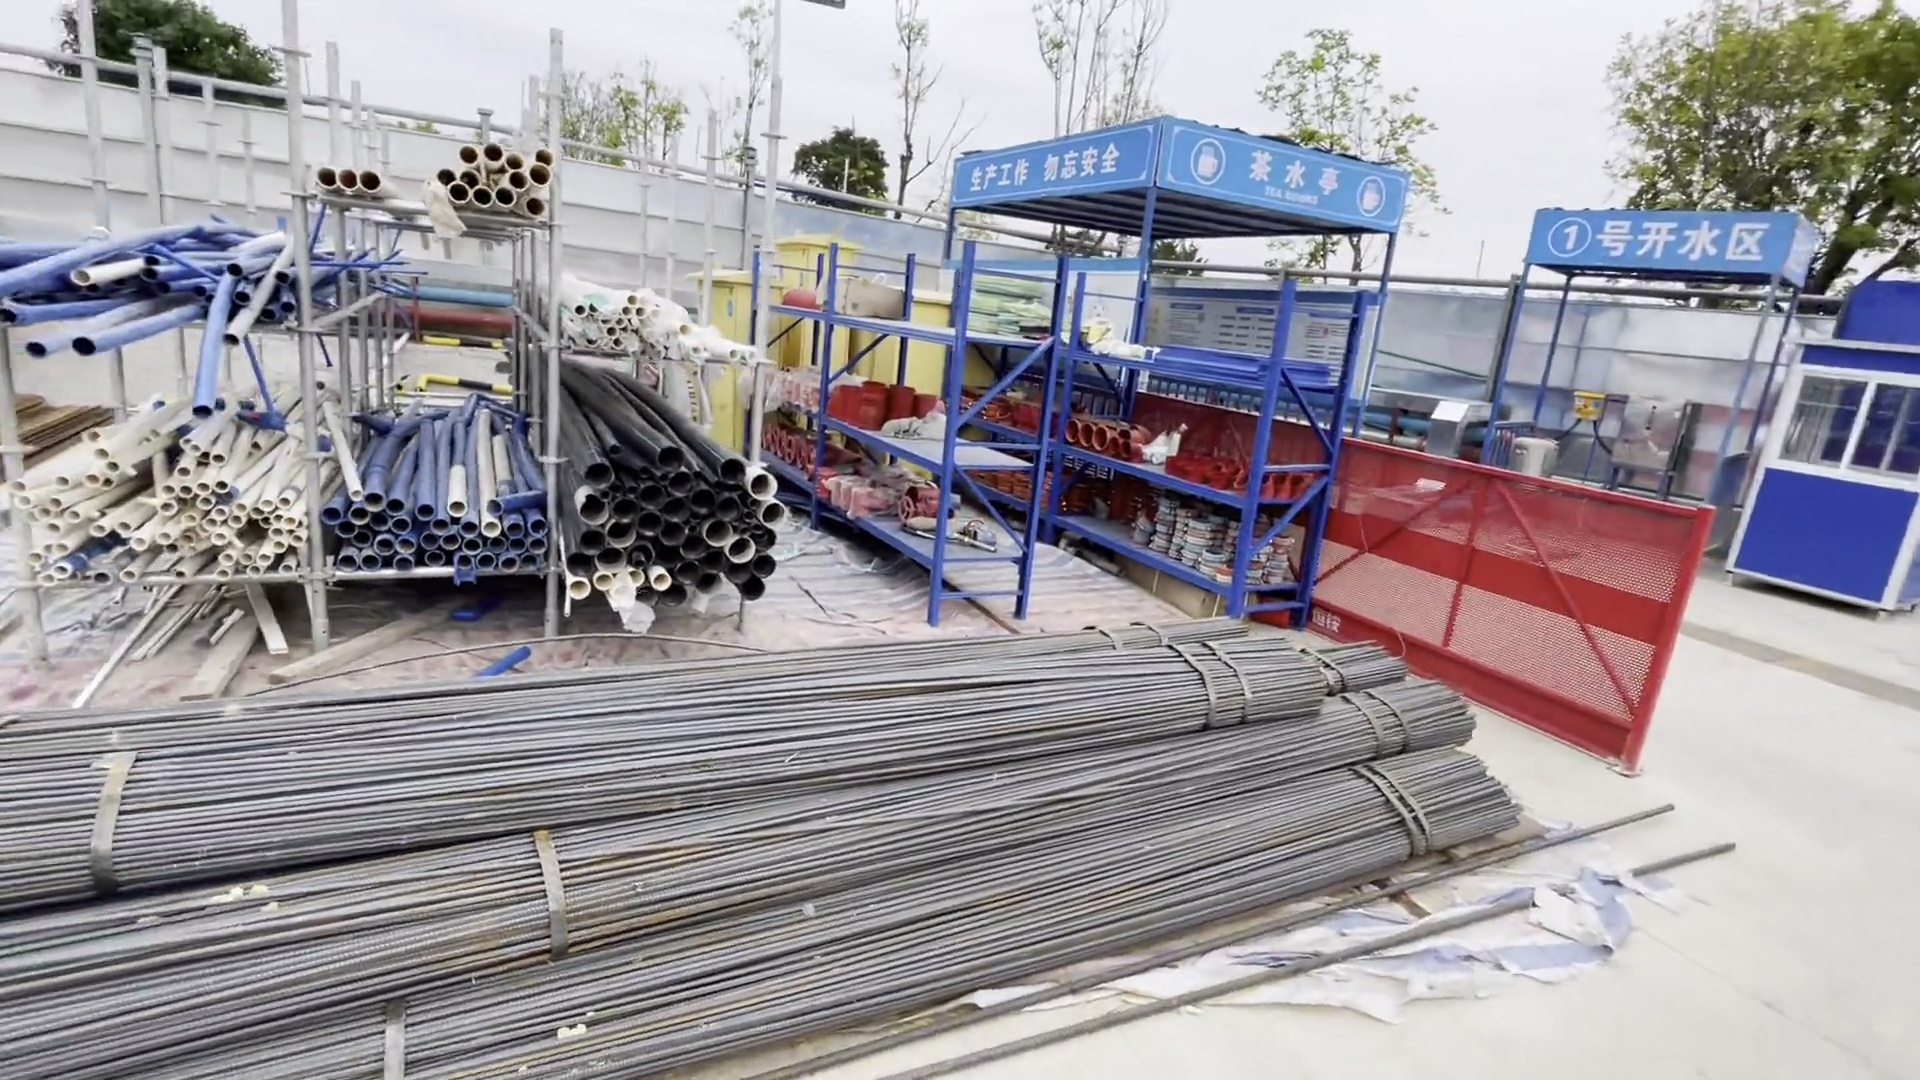ebox: (844, 280, 960, 421), (695, 269, 769, 455), (774, 224, 855, 392)
fence: (1270, 425, 1720, 785)
rebar: (11, 618, 1506, 1080)
slogan: (967, 149, 1124, 187)
